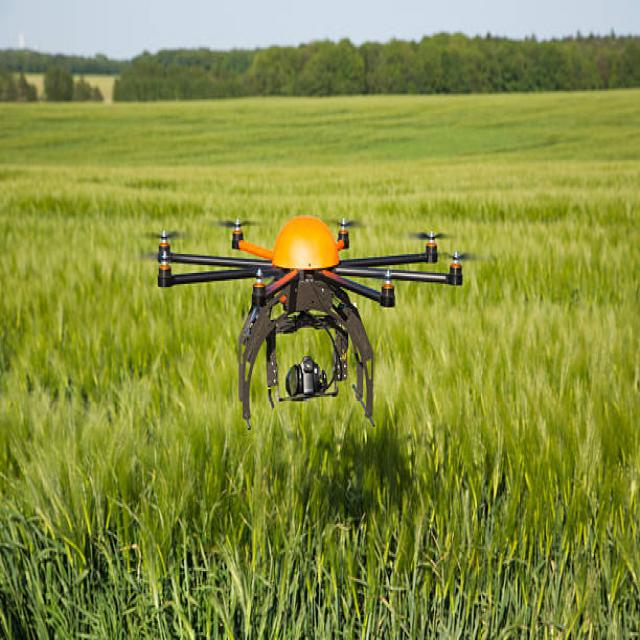drone: (118, 168, 486, 444)
